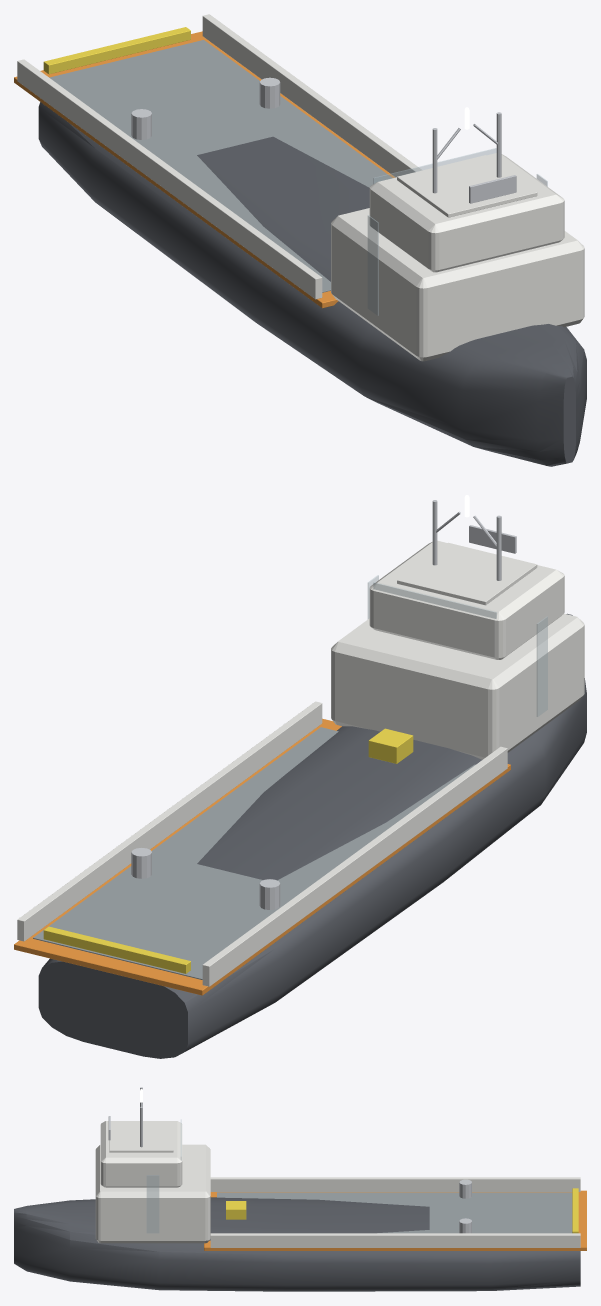
Rendered from offshore-oil-rig-and-platform-supply-vessel-hull-001aaf52__37060.glb.
3 renders of one model, top to bottom at view 1: azimuth 30°, elevation 25°; view 2: azimuth 150°, elevation 25°; view 3: azimuth 270°, elevation 25°, orthographic. The views are drawn at different scales.
Visible parts, largest first — view 1: supply-vessel-hull; view 2: supply-vessel-hull; view 3: supply-vessel-hull.
Boxes of the visible parts, left/top/right/bottom form: supply-vessel-hull: left=14, top=14, right=586, bottom=466; supply-vessel-hull: left=14, top=495, right=586, bottom=1058; supply-vessel-hull: left=14, top=1087, right=586, bottom=1291.
Size of the model in its own units: 11 by 15.8 by 44.9.
